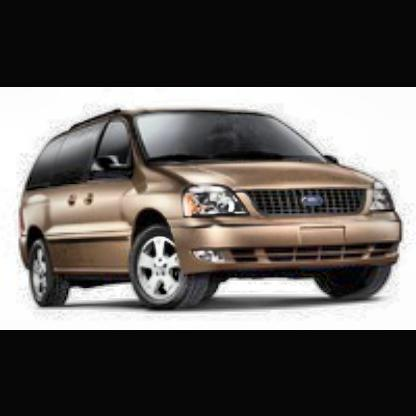Ford Freestar Minivan 2007: (12, 103, 415, 313)
